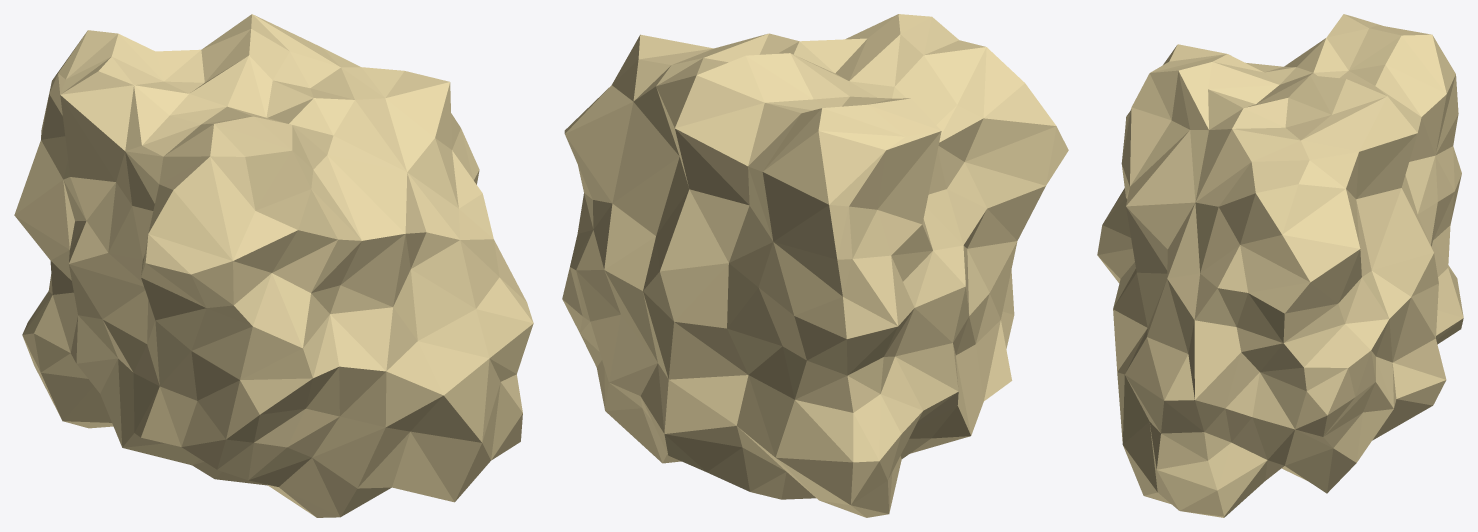
The model's file is Asteroid (45).fbx.
The picture shows the model from 3 angles, left to right: view 1: azimuth 30°, elevation 25°; view 2: azimuth 150°, elevation 25°; view 3: azimuth 270°, elevation 25°; orthographic projection. The views are drawn at different scales.
Parts seen in each view (by area): view 1: Asteroid139; view 2: Asteroid139; view 3: Asteroid139.
Boxes of the visible parts, x1,y1,x2,y2 form: Asteroid139: (14,14,533,517); Asteroid139: (562,14,1068,517); Asteroid139: (1097,14,1463,517).
Size of the model in its own units: 337 by 336 by 295.
